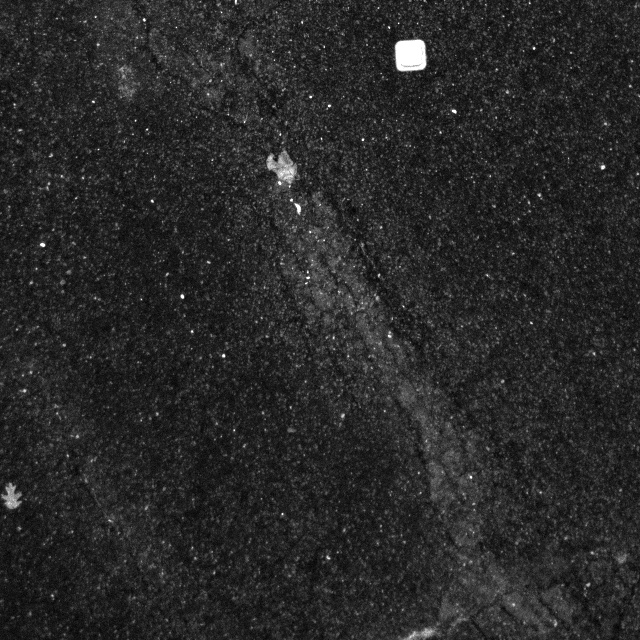container: (385, 36, 432, 77)
